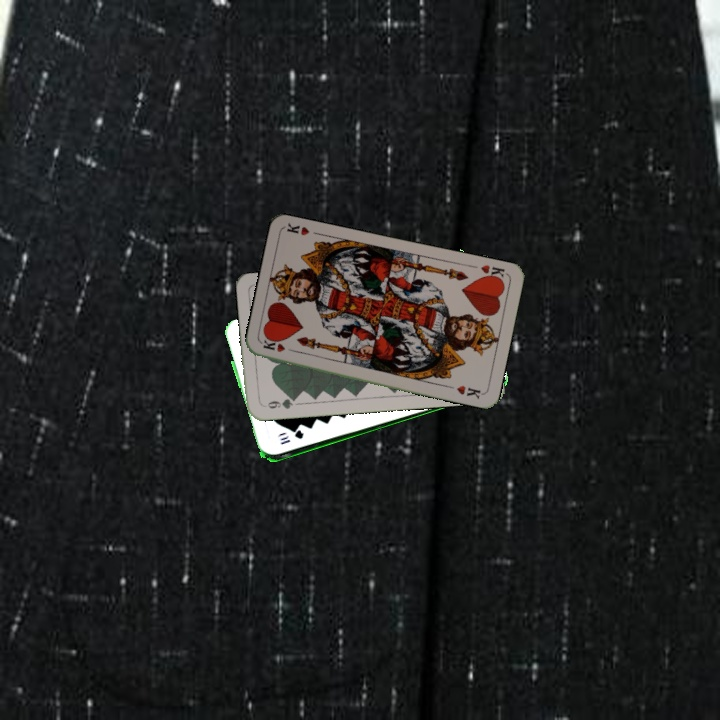G10: (276, 428, 307, 447)
G9: (260, 394, 300, 412)
HK: (477, 261, 509, 284), (259, 337, 299, 355)
